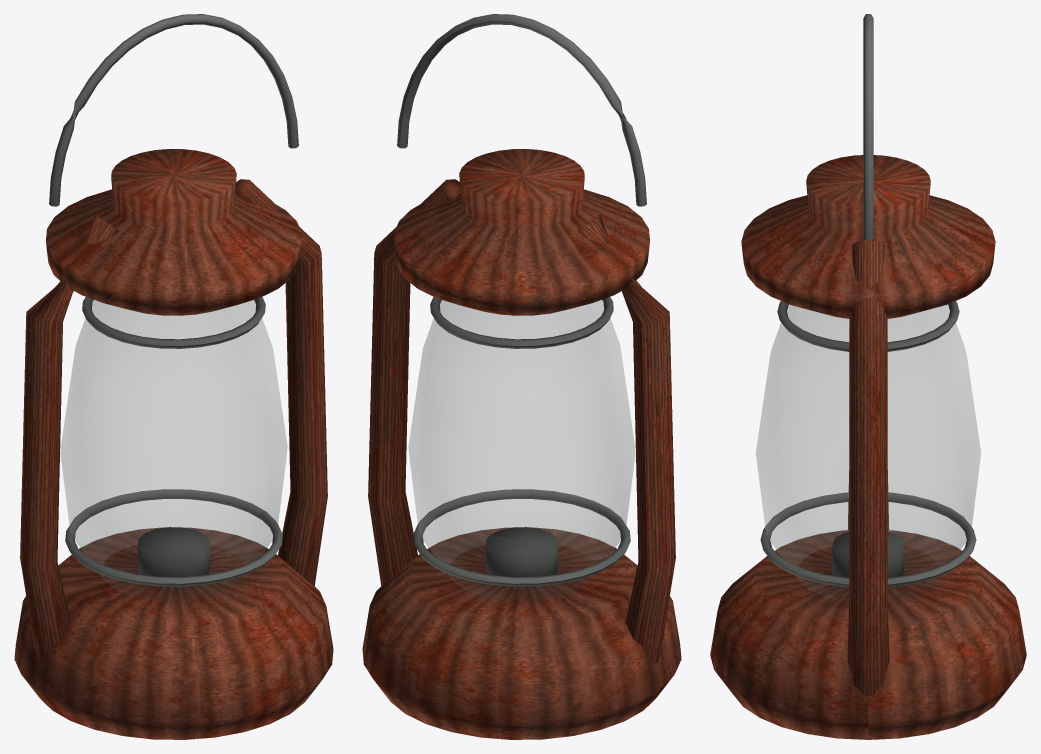
The model's file is prop_lantern.glb.
3 renders of one model, left to right at view 1: azimuth 30°, elevation 25°; view 2: azimuth 150°, elevation 25°; view 3: azimuth 270°, elevation 25°, orthographic.
Parts seen in each view (by area): view 1: prop_lantern; view 2: prop_lantern; view 3: prop_lantern.
Boxes of the visible parts, <box> form: prop_lantern: <box>14,14,333,739</box>; prop_lantern: <box>362,14,681,739</box>; prop_lantern: <box>710,14,1026,739</box>.
Bounding box in the file's own units: 0.144 × 0.3 × 0.1313.
3 materials, 1 textured.
